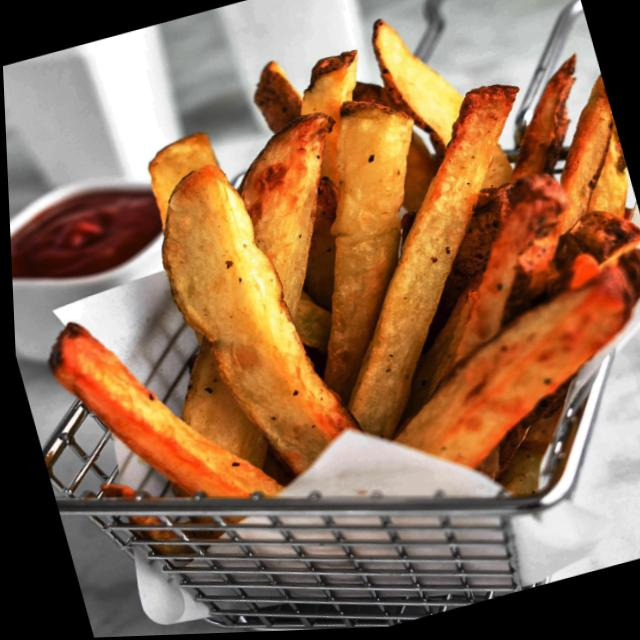french fries: (0, 0, 640, 577)
ketchup: (8, 178, 170, 291)
